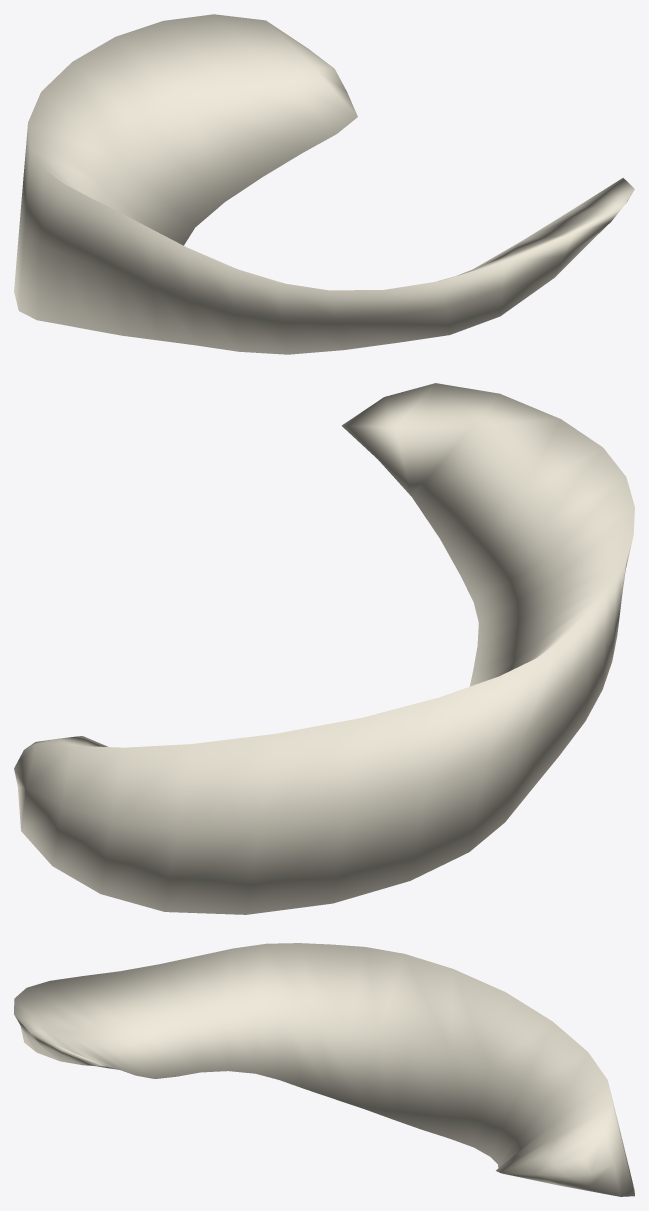
The picture shows the model from 3 angles, top to bottom: view 1: azimuth 30°, elevation 25°; view 2: azimuth 150°, elevation 25°; view 3: azimuth 270°, elevation 25°; orthographic projection. The views are drawn at different scales.
Parts seen in each view (by area): view 1: ZA_0105cde6fea6408b; view 2: ZA_0105cde6fea6408b; view 3: ZA_0105cde6fea6408b.
Boxes of the visible parts, x1,y1,x2,y2 form: ZA_0105cde6fea6408b: (14,14,634,354); ZA_0105cde6fea6408b: (14,383,634,914); ZA_0105cde6fea6408b: (14,943,634,1196).
Bounding box in the file's own units: 0.0258 × 0.0149 × 0.0447.
